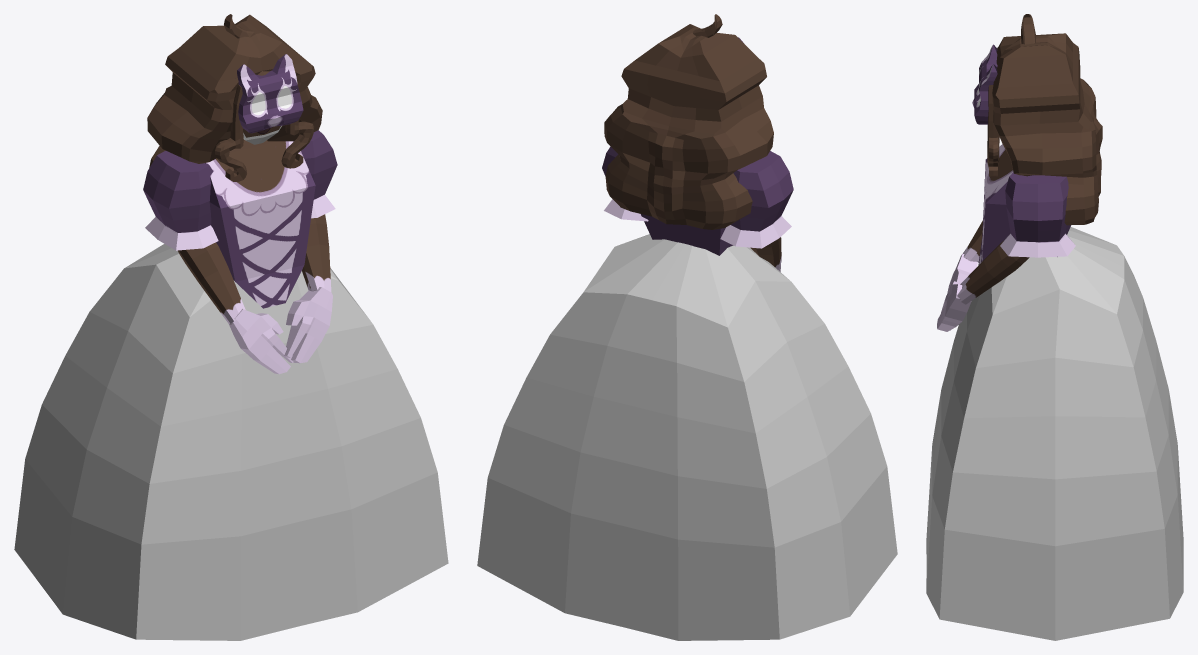
The model's file is Catfull.fbx.
3 views of the same model, side by side, from view 1: azimuth 30°, elevation 25°; view 2: azimuth 150°, elevation 25°; view 3: azimuth 270°, elevation 25° (orthographic). The views are drawn at different scales.
Parts seen in each view (by area): view 1: Cube.007, Cube.005, Cube, Cube.017, Cube.025, Cube.006; view 2: Cube.007, Cube.005, Cube.025, Cube; view 3: Cube.007, Cube.005, Cube.025, Cube.017, Cube, Cube.006.
Boxes of the visible parts, left/top/right/bottom form: Cube.007: left=14, top=244, right=448, bottom=640; Cube.005: left=147, top=14, right=322, bottom=181; Cube: left=205, top=139, right=315, bottom=308; Cube.017: left=178, top=214, right=332, bottom=374; Cube.025: left=143, top=130, right=337, bottom=250; Cube.006: left=237, top=54, right=303, bottom=133; Cube.007: left=477, top=234, right=897, bottom=640; Cube.005: left=604, top=14, right=773, bottom=229; Cube.025: left=602, top=146, right=793, bottom=248; Cube: left=641, top=214, right=733, bottom=255; Cube.007: left=926, top=227, right=1183, bottom=640; Cube.005: left=987, top=14, right=1102, bottom=225; Cube.025: left=1000, top=172, right=1075, bottom=257; Cube.017: left=937, top=220, right=1029, bottom=331; Cube: left=978, top=144, right=1071, bottom=265; Cube.006: left=972, top=44, right=997, bottom=124.
Bounding box in the file's own units: 155 × 254 × 109.
